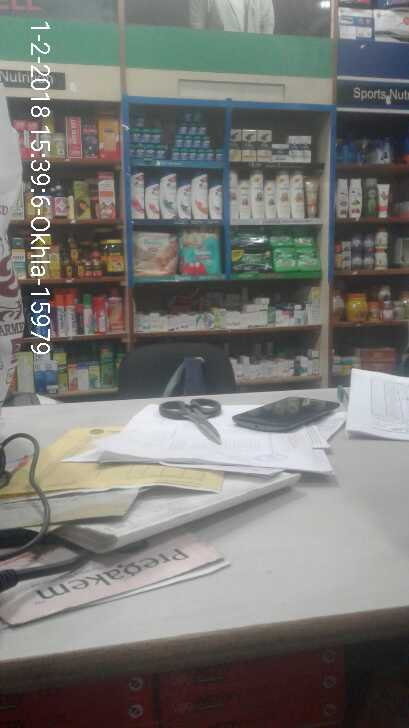vicks: (130, 107, 227, 162)
